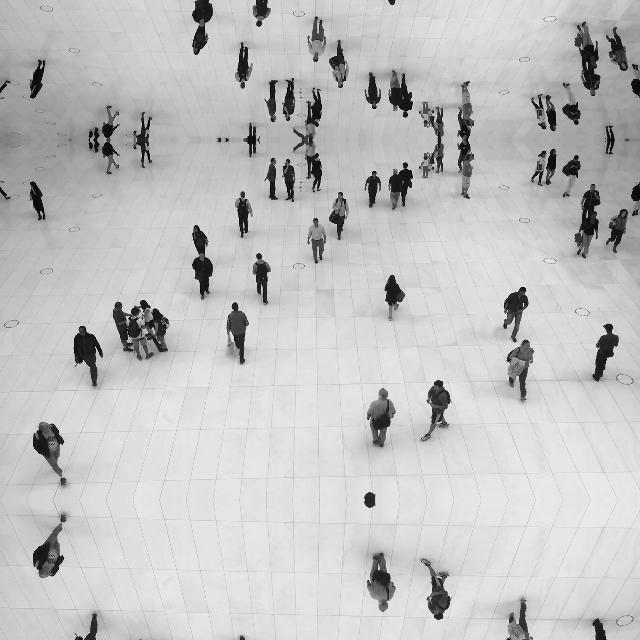person: (32, 422, 68, 486), (32, 514, 68, 578), (421, 380, 452, 442), (421, 558, 452, 620), (506, 338, 536, 402), (73, 326, 103, 386), (366, 388, 396, 448), (366, 552, 396, 612), (592, 323, 620, 382), (126, 307, 154, 361), (227, 302, 250, 366), (503, 286, 529, 342), (574, 211, 600, 259), (574, 21, 600, 69), (506, 598, 535, 640), (113, 302, 135, 352), (191, 252, 213, 300), (580, 183, 602, 231), (580, 49, 602, 97), (252, 253, 272, 305), (328, 40, 349, 89), (384, 274, 406, 320), (606, 208, 628, 254), (328, 192, 349, 240), (606, 27, 628, 72), (292, 140, 316, 180), (292, 100, 316, 140), (307, 15, 327, 62), (307, 218, 327, 264), (150, 308, 170, 352), (562, 154, 582, 198), (562, 82, 582, 126), (235, 190, 253, 238), (235, 42, 253, 90), (73, 613, 103, 640), (138, 300, 158, 338), (28, 181, 46, 221), (28, 59, 46, 99), (398, 162, 414, 206), (398, 74, 414, 118), (364, 170, 382, 208), (364, 72, 382, 110), (388, 168, 404, 210), (388, 70, 404, 112), (102, 140, 120, 176), (530, 150, 548, 186), (102, 104, 120, 140), (530, 94, 548, 130), (592, 617, 619, 640), (282, 159, 296, 203), (282, 77, 296, 121), (264, 157, 278, 200), (191, 0, 213, 27), (264, 80, 278, 122), (192, 224, 208, 260), (192, 20, 208, 56), (461, 154, 474, 198), (461, 82, 474, 126), (252, 0, 271, 27), (457, 140, 473, 172), (457, 108, 473, 140), (134, 140, 152, 168), (134, 112, 152, 140), (310, 153, 322, 193), (310, 87, 322, 127), (546, 148, 558, 186), (546, 95, 558, 132), (432, 140, 444, 174), (432, 106, 444, 140), (419, 152, 433, 178), (419, 102, 433, 128), (630, 181, 640, 217), (630, 63, 640, 99), (243, 140, 261, 158), (243, 122, 261, 140), (0, 185, 10, 200), (0, 79, 10, 94), (88, 140, 100, 152), (88, 128, 100, 140), (605, 140, 615, 154), (605, 126, 615, 140), (226, 634, 249, 640), (384, 0, 406, 6), (364, 492, 376, 500), (364, 500, 376, 508), (126, 639, 154, 640)
